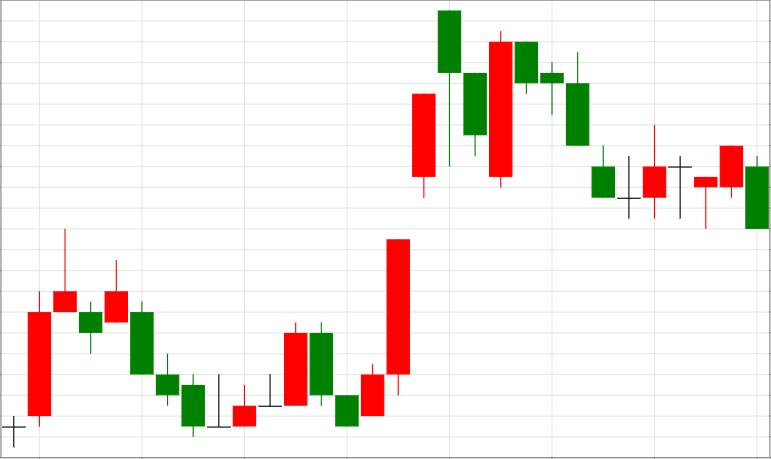hanging_man_fall: (336, 11, 461, 426)
morning_star_rise: (104, 260, 256, 438), (515, 42, 666, 219)
